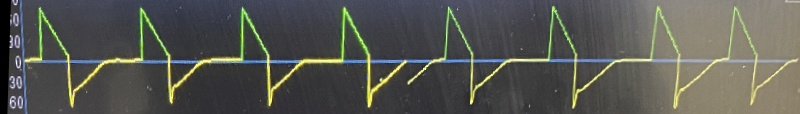normal_flow: (28, 0, 771, 114)
